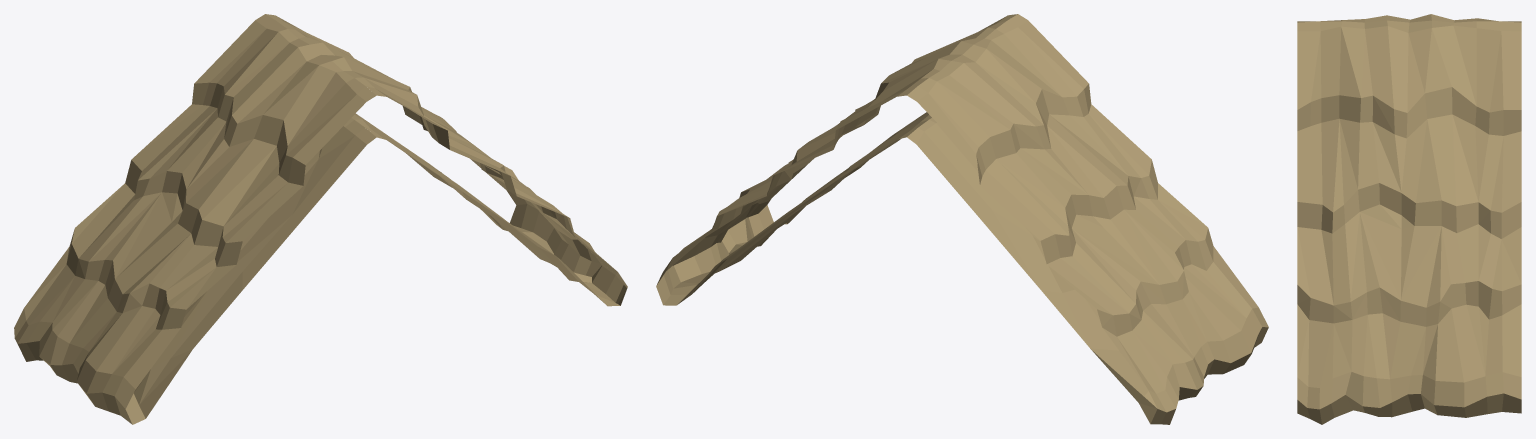
The model's file is rpgpp_ag_roof_02b_6x3x3.fbx.
3 views of the same model, side by side, from view 1: azimuth 30°, elevation 25°; view 2: azimuth 150°, elevation 25°; view 3: azimuth 270°, elevation 25° (orthographic).
Parts seen in each view (by area): view 1: rpgpp_ag_roof_02b_6x3x3; view 2: rpgpp_ag_roof_02b_6x3x3; view 3: rpgpp_ag_roof_02b_6x3x3.
Part boxes in pixels (<box>): rpgpp_ag_roof_02b_6x3x3: <box>14,14,627,424</box>; rpgpp_ag_roof_02b_6x3x3: <box>656,14,1268,424</box>; rpgpp_ag_roof_02b_6x3x3: <box>1297,14,1521,424</box>.
Bounding box in the file's own units: 8.13 × 4.16 × 3.
